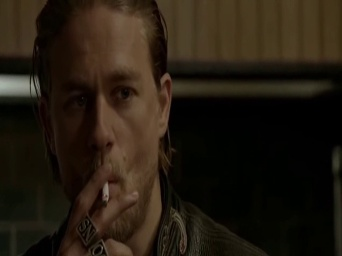smoke: (101, 179, 110, 206)
